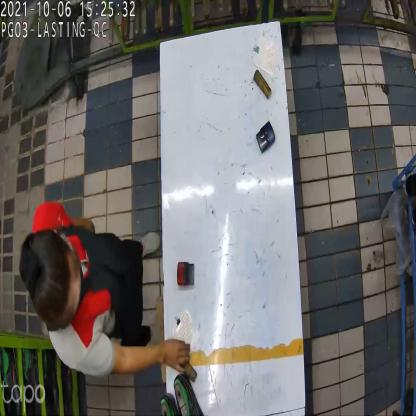stamp: (255, 121, 275, 156), (176, 258, 195, 289)
